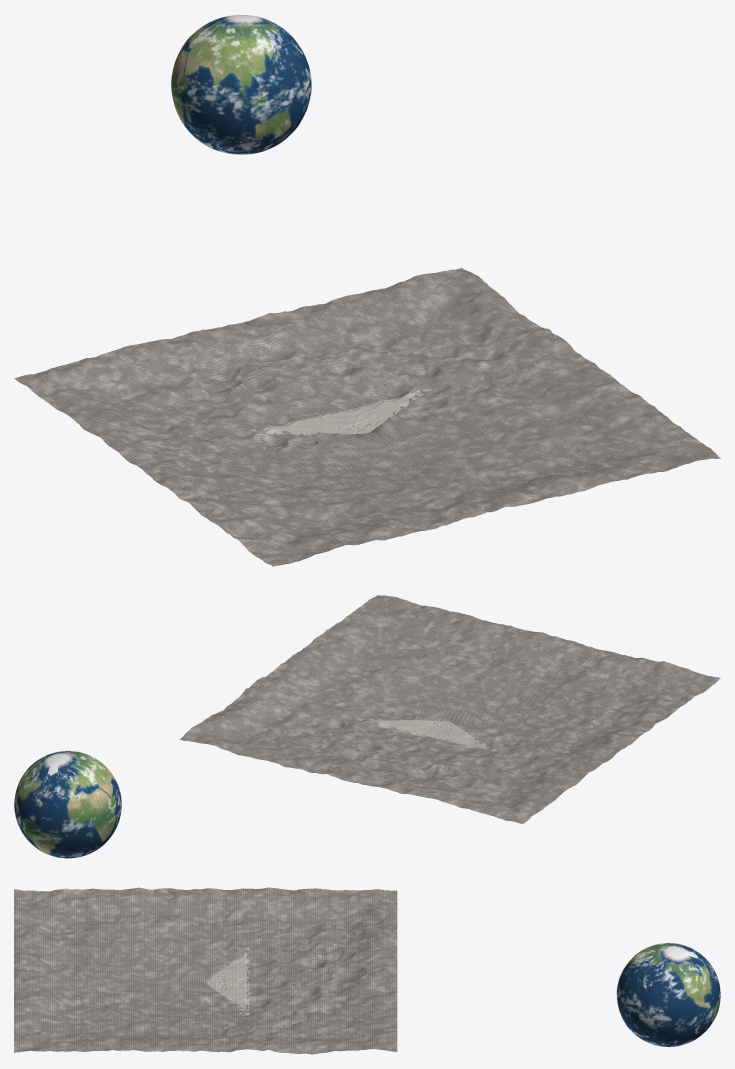
The model's file is moon-environment-desktop.glb.
3 renders of one model, top to bottom at view 1: azimuth 30°, elevation 25°; view 2: azimuth 150°, elevation 25°; view 3: azimuth 270°, elevation 25°, orthographic. The views are drawn at different scales.
Parts seen in each view (by area): view 1: Lunar_Mountains_Far, Earth_Globe, Earth_CloudLayer, Lunar_Terrain_Near; view 2: Lunar_Mountains_Far, Earth_Globe, Earth_CloudLayer, Lunar_Terrain_Near; view 3: Lunar_Mountains_Far, Earth_Globe, Earth_CloudLayer, Lunar_Terrain_Near.
Part boxes in pixels (<box>): Lunar_Mountains_Far: <box>14,268,720,566</box>; Earth_Globe: <box>171,15,311,154</box>; Earth_CloudLayer: <box>171,19,311,154</box>; Lunar_Terrain_Near: <box>249,388,431,434</box>; Lunar_Mountains_Far: <box>180,595,720,823</box>; Earth_Globe: <box>14,751,121,858</box>; Earth_CloudLayer: <box>14,750,121,858</box>; Lunar_Terrain_Near: <box>357,719,496,751</box>; Lunar_Mountains_Far: <box>14,887,397,1054</box>; Earth_Globe: <box>617,943,720,1046</box>; Earth_CloudLayer: <box>616,942,720,1047</box>; Lunar_Terrain_Near: <box>206,947,249,1015</box>.
Bounding box in the file's own units: 7358 × 2118 × 12895.
6 materials, 3 textured.
